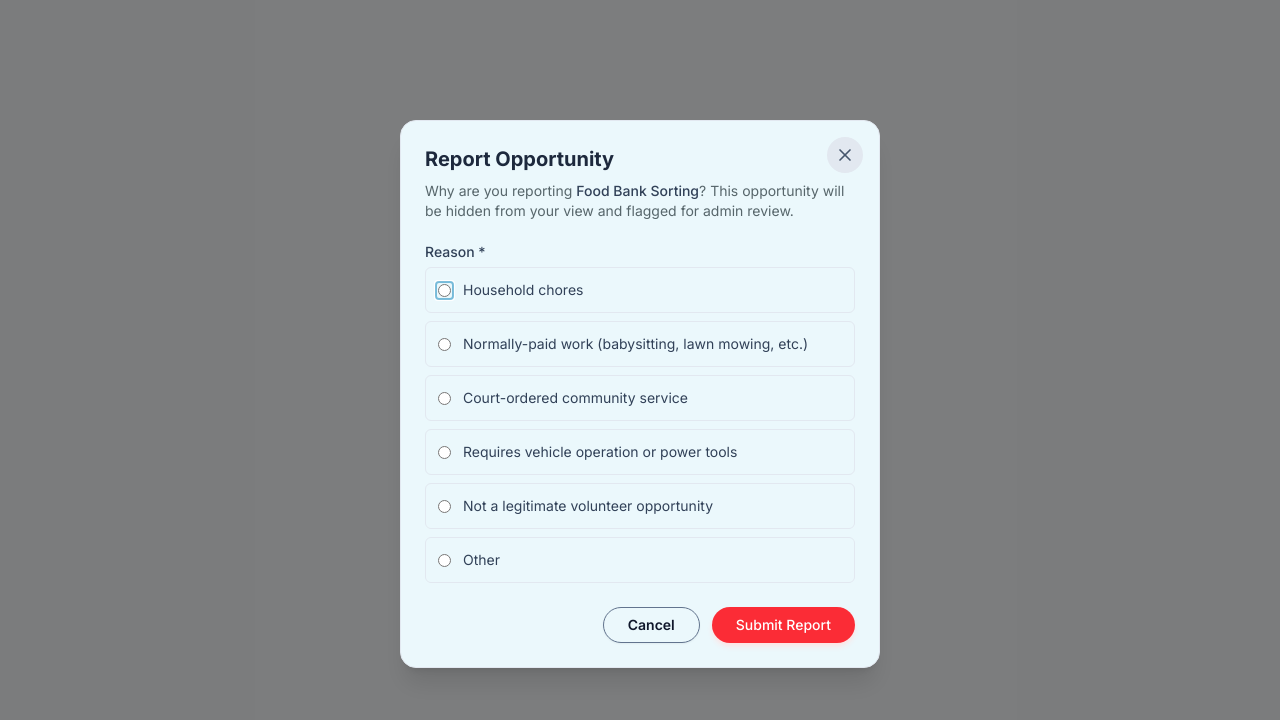
Scenario: ReportOpportunityModal › shows character counter when 'Other' textarea is visible
Click the text "Other" at (482, 560), box left=463, top=550, right=500, bottom=570
(page scrolled)
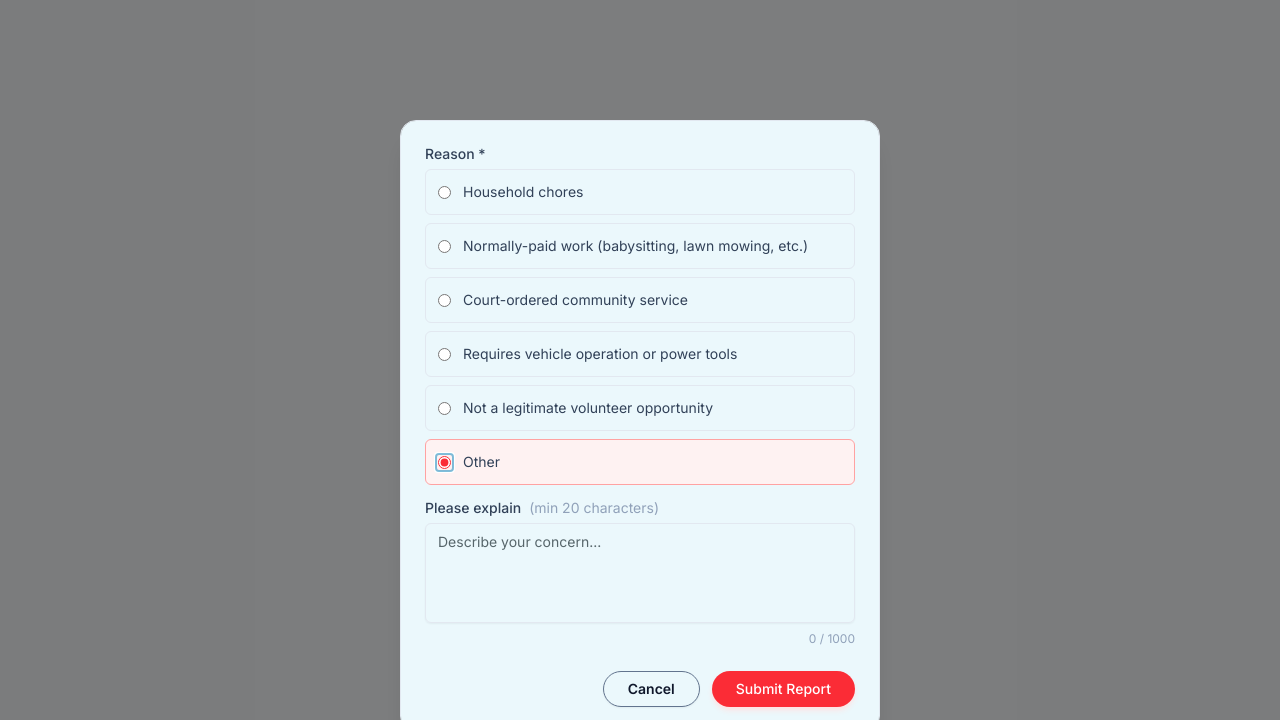
Expected: the text "0 / 1000" is shown, left=809, top=631, right=855, bottom=646
